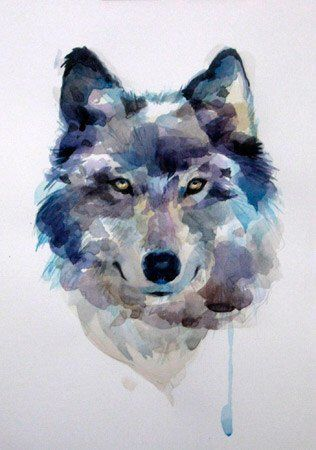Lobo: (20, 38, 282, 373)
